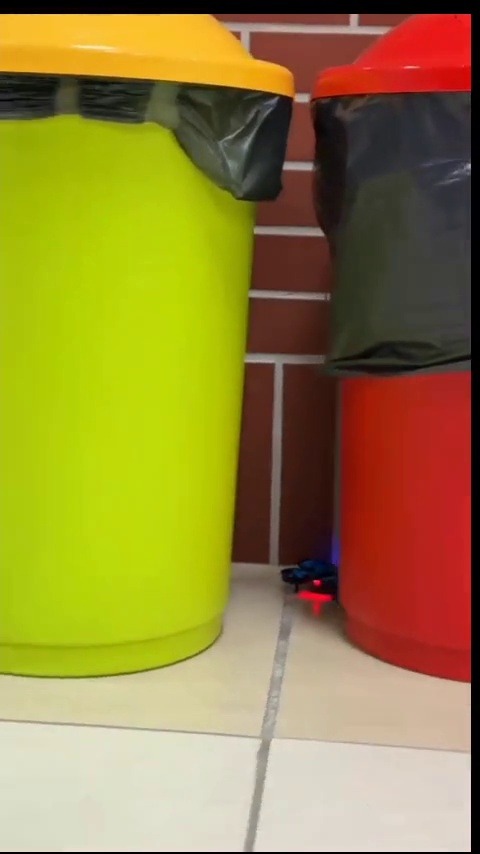drone: (283, 550, 336, 597)
